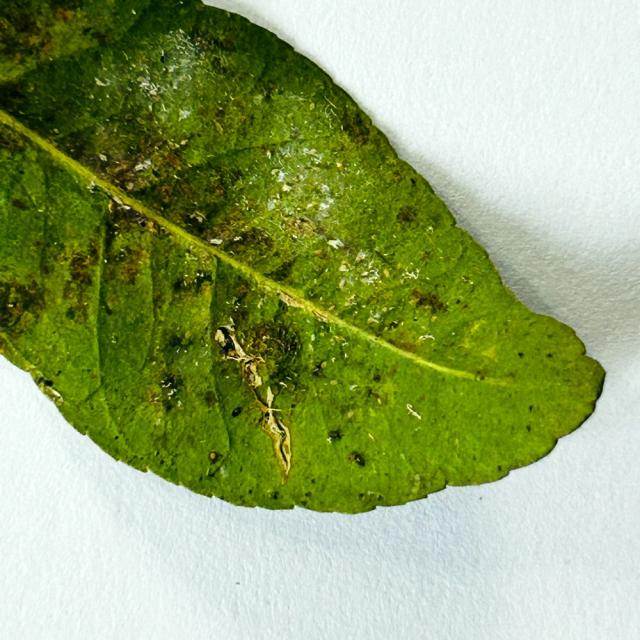Bacterial_Blight: (325, 240, 442, 339), (325, 368, 393, 426), (138, 147, 195, 200), (0, 4, 53, 59), (59, 251, 107, 305), (0, 278, 45, 325), (106, 198, 158, 236), (221, 225, 276, 259), (149, 371, 184, 409), (115, 247, 148, 284), (264, 254, 299, 284), (341, 115, 368, 141), (6, 301, 25, 319), (10, 197, 30, 211), (391, 169, 409, 184), (212, 106, 228, 122)
Lemon: (0, 0, 605, 517)
